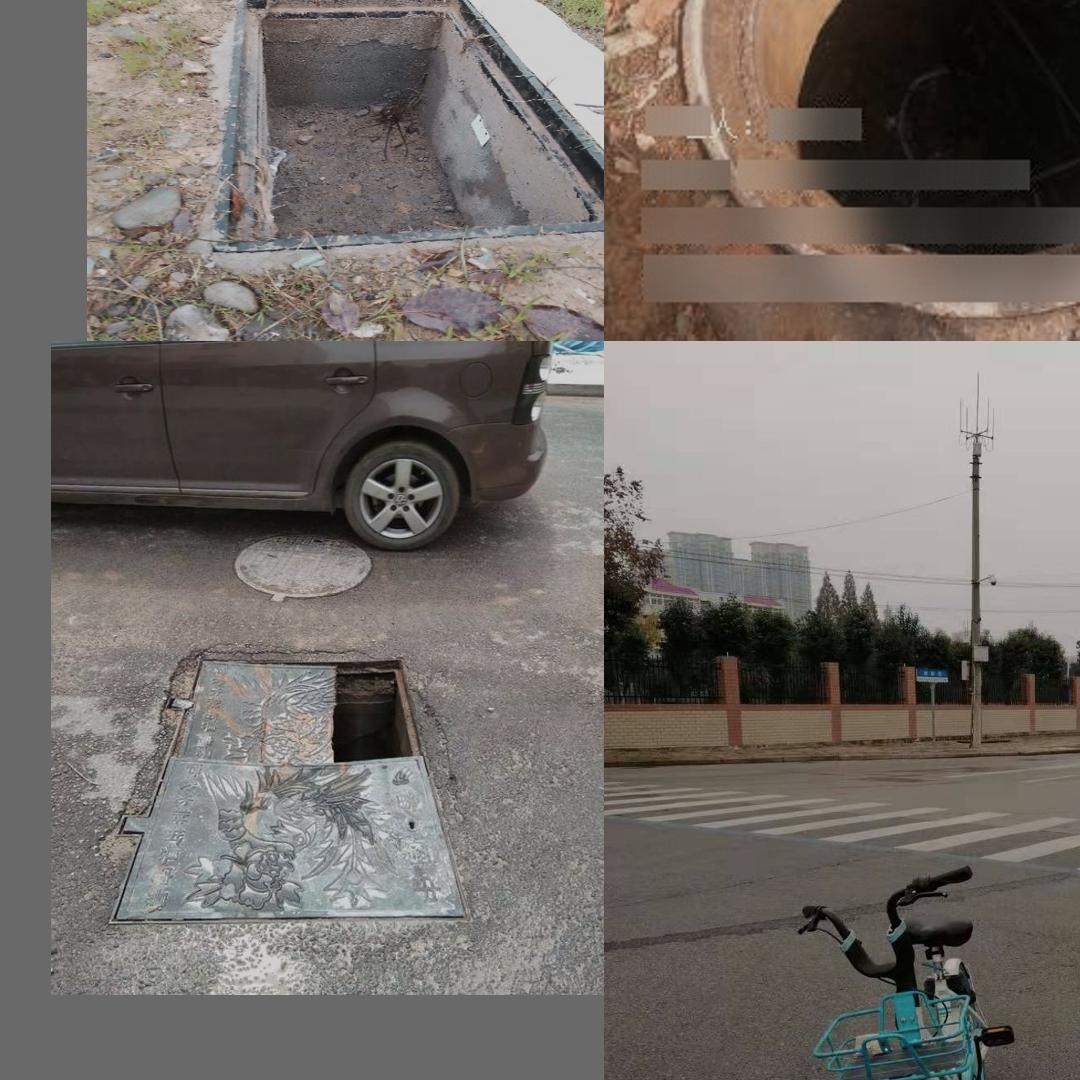lose: (682, 0, 1080, 317), (90, 635, 477, 940), (221, 0, 604, 241)
